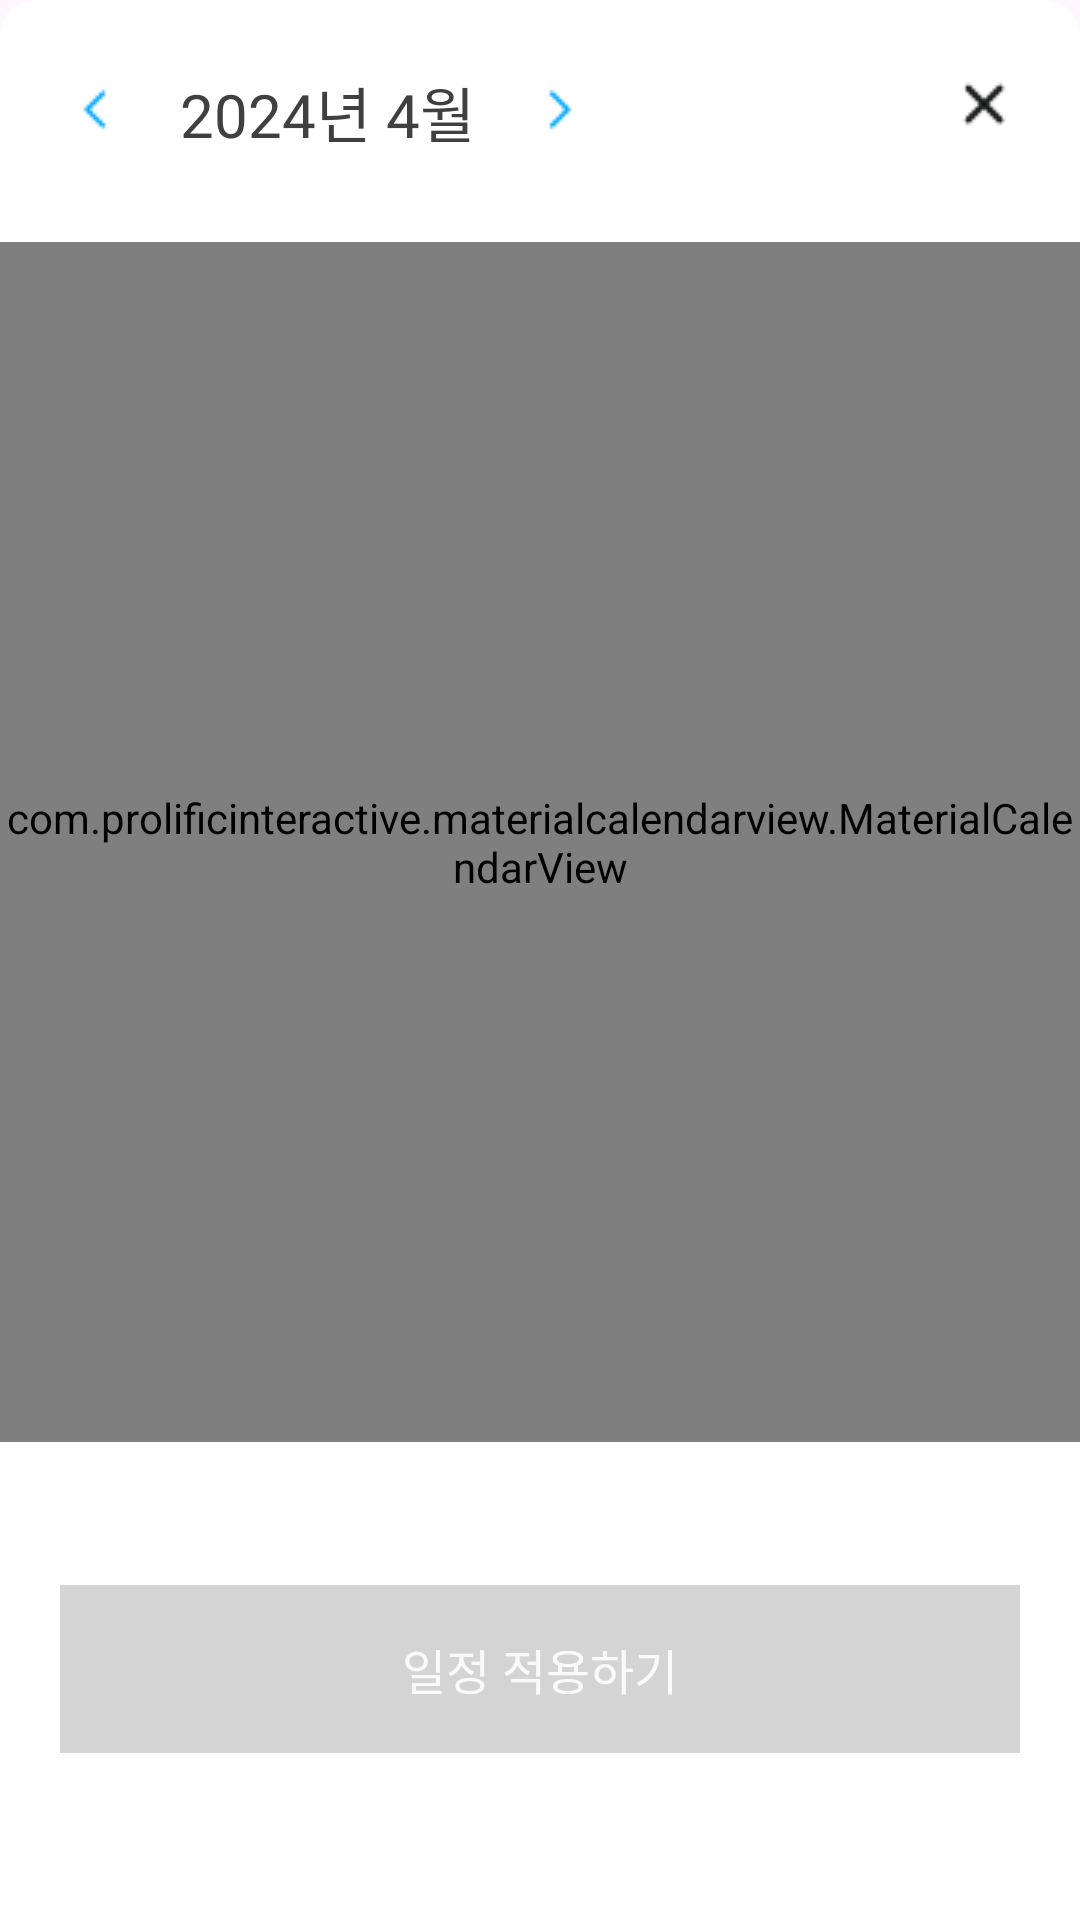

Locate icon controls on the screen. Image size 1080w x 1920h, boxes as (x1, y1, x2, y2).
calendar arrow left: (83, 89, 106, 130)
calendar arrow right: (549, 89, 572, 130)
